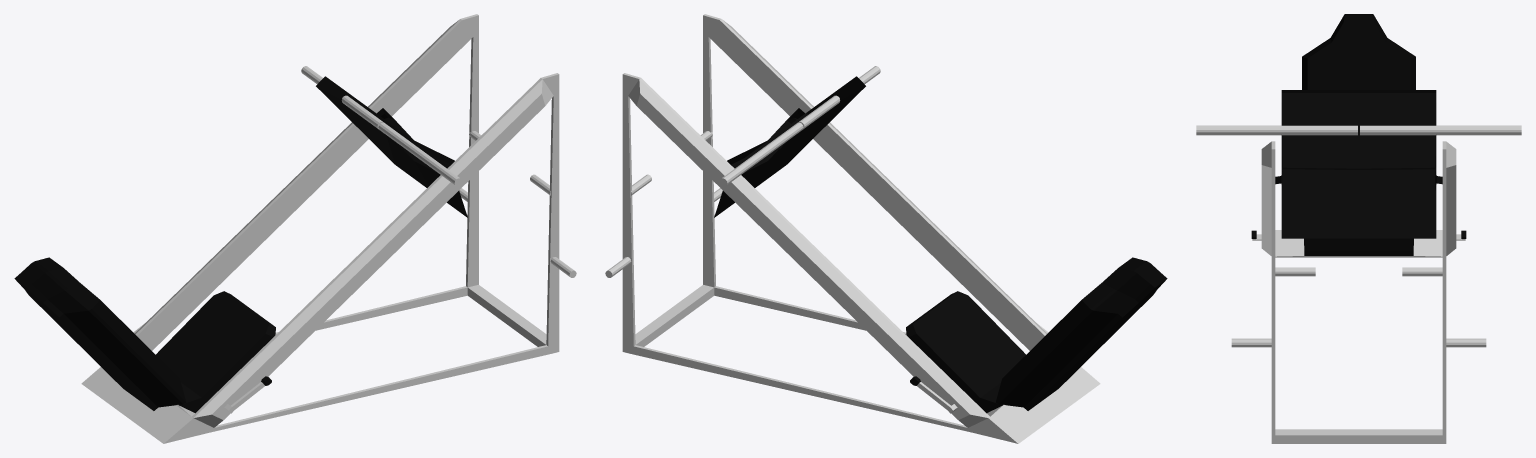
File: LegPressMachine.fbx
3 renders of one model, left to right at view 1: azimuth 30°, elevation 25°; view 2: azimuth 150°, elevation 25°; view 3: azimuth 270°, elevation 25°, orthographic. The views are drawn at different scales.
Visible parts, largest first — view 1: LegPressMachine; view 2: LegPressMachine; view 3: LegPressMachine.
Boxes of the visible parts, x1=… form: LegPressMachine: x1=14, y1=14, x2=576, y2=443; LegPressMachine: x1=605, y1=14, x2=1167, y2=443; LegPressMachine: x1=1196, y1=14, x2=1521, y2=443.
Size of the model in its own units: 253 by 135 by 135.
